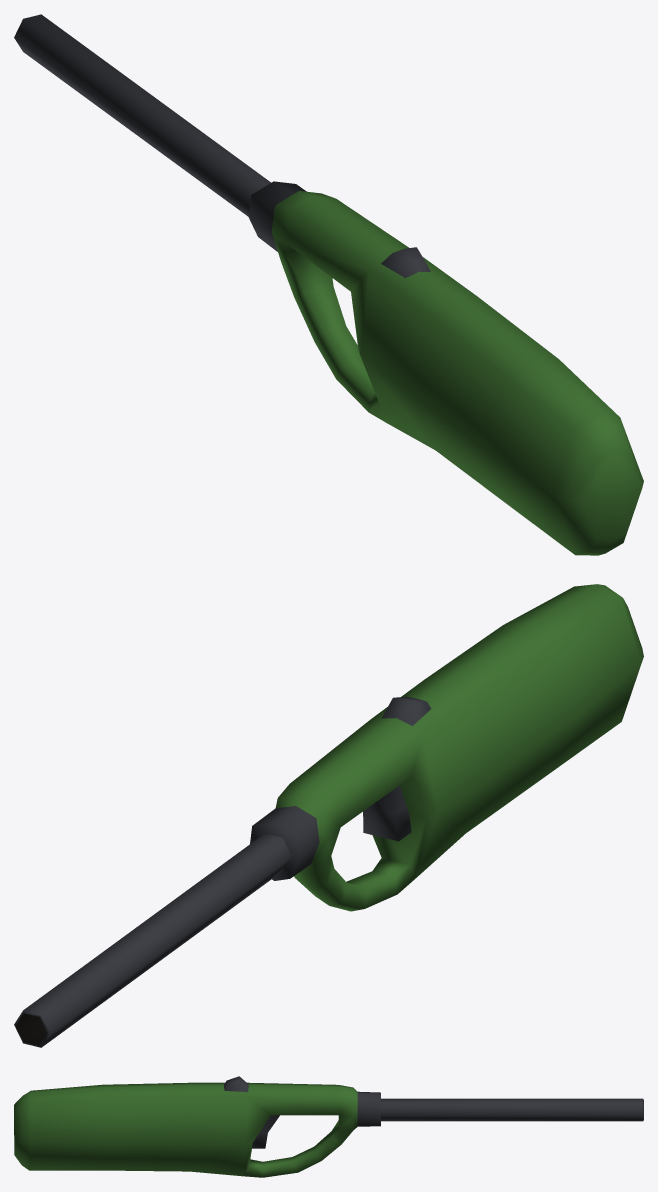
File: lighter.fbx
The picture shows the model from 3 angles, top to bottom: view 1: azimuth 30°, elevation 25°; view 2: azimuth 150°, elevation 25°; view 3: azimuth 270°, elevation 25°; orthographic projection. The views are drawn at different scales.
Parts seen in each view (by area): view 1: Lighter_Candle_Green; view 2: Lighter_Candle_Green; view 3: Lighter_Candle_Green.
Part boxes in pixels (<box>): Lighter_Candle_Green: <box>14,14,643,555</box>; Lighter_Candle_Green: <box>14,584,643,1047</box>; Lighter_Candle_Green: <box>14,1076,643,1177</box>.
Bounding box in the file's own units: 8.84 × 15.84 × 91.78.
Materials: 1 (1 with a texture image).
